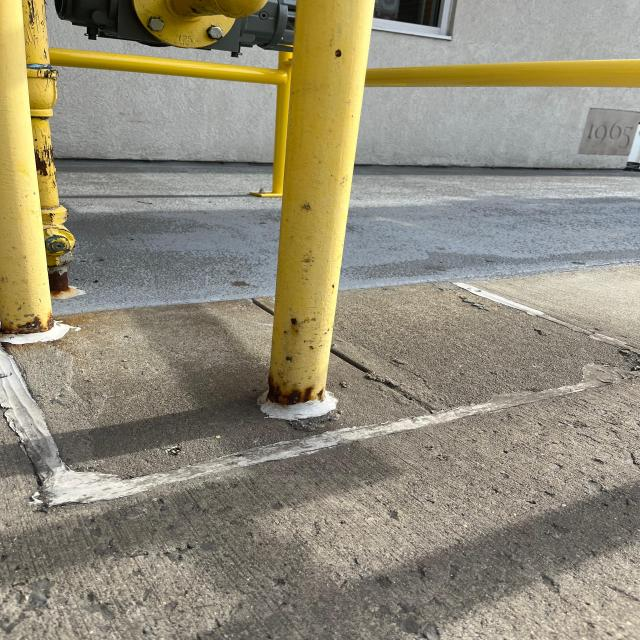Filiform Corrosion: (22, 1, 130, 337)
